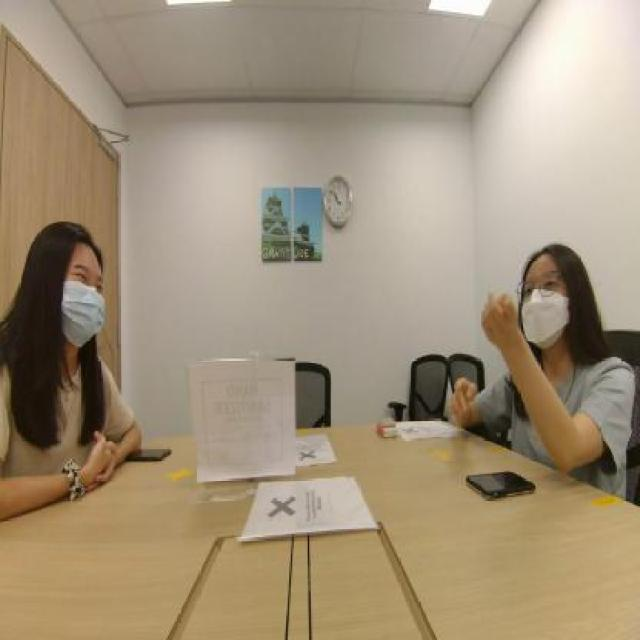Person: (484, 193, 613, 453), (11, 151, 111, 455)
